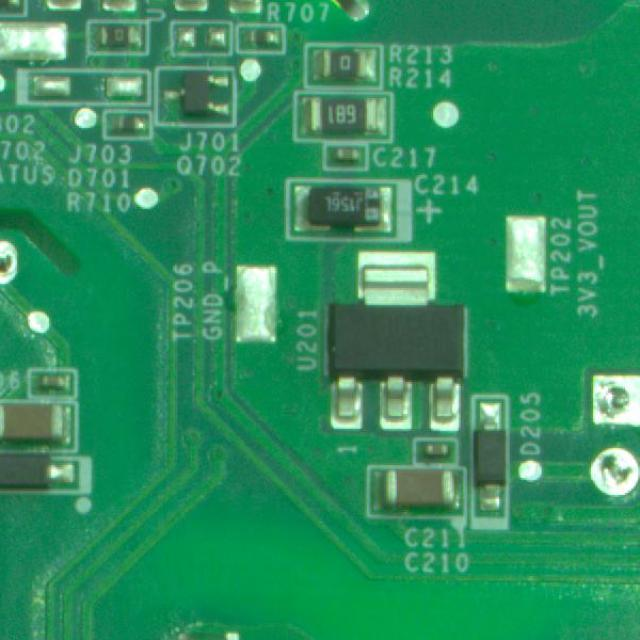Insufficient solder: (586, 368, 640, 435), (583, 444, 640, 502), (0, 239, 27, 288)
